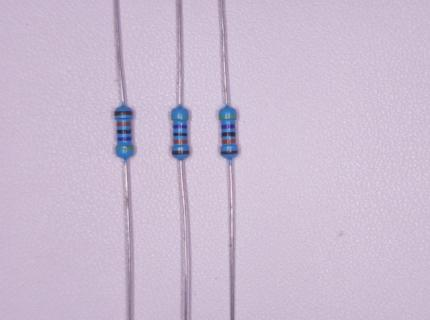Black band: (117, 129, 131, 134), (222, 132, 235, 137), (173, 133, 187, 137)
Brown band: (114, 111, 133, 116), (172, 151, 189, 155), (221, 151, 237, 155)
Orange band: (222, 139, 236, 144), (117, 122, 131, 126), (174, 140, 187, 144)
Violet band: (221, 124, 236, 129), (173, 124, 187, 129), (118, 137, 131, 141)
Yellow band: (117, 146, 134, 150), (219, 115, 236, 119), (171, 115, 188, 118)
